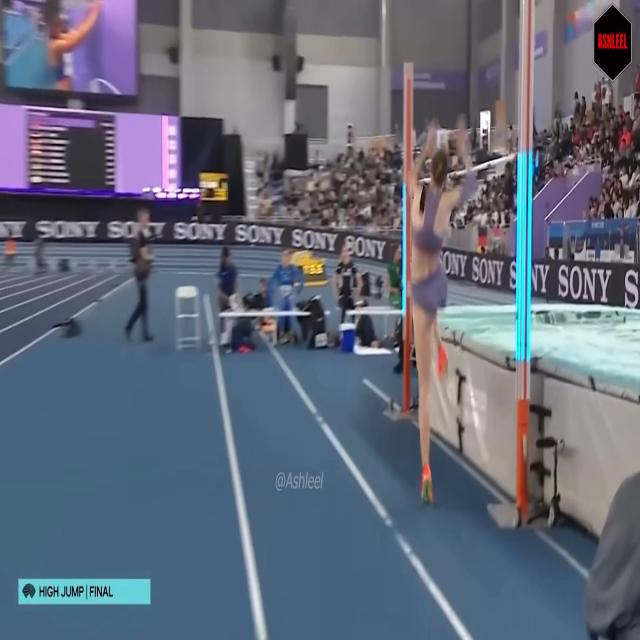jump: (409, 118, 479, 504)
